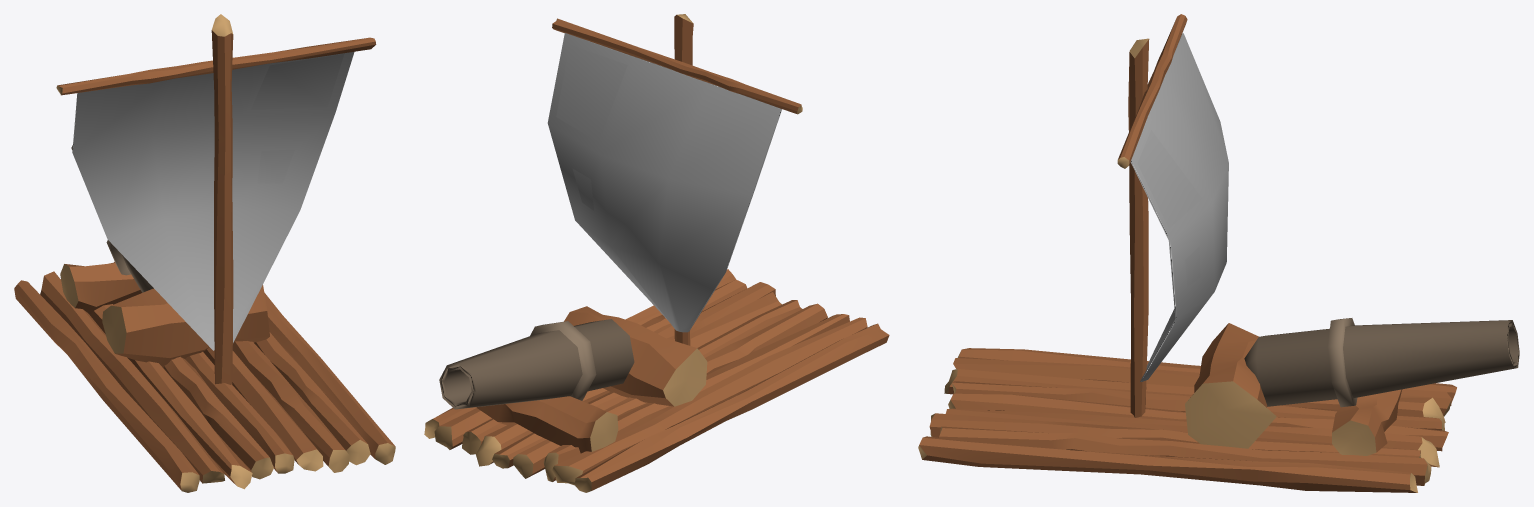
Rendered from raft.fbx.
3 views of the same model, side by side, from view 1: azimuth 30°, elevation 25°; view 2: azimuth 150°, elevation 25°; view 3: azimuth 270°, elevation 25° (orthographic). The views are drawn at different scales.
Parts seen in each view (by area): view 1: polySurface2; view 2: polySurface2; view 3: polySurface2.
Boxes of the visible parts, x1,y1,x2,y2 form: polySurface2: (14,14,395,492); polySurface2: (424,14,889,492); polySurface2: (918,14,1519,492).
Bounding box in the file's own units: 14.24 × 18.32 × 25.16.
